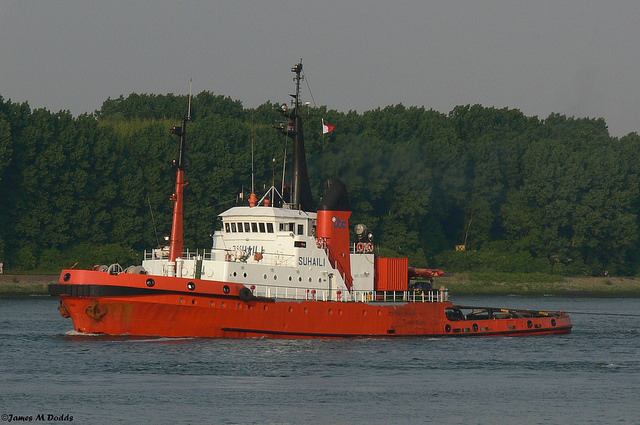tug_boat: (53, 78, 582, 344)
